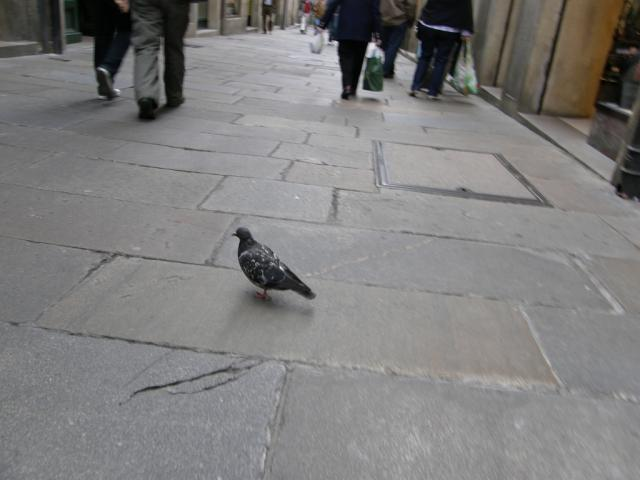Bird: (231, 228, 314, 304)
